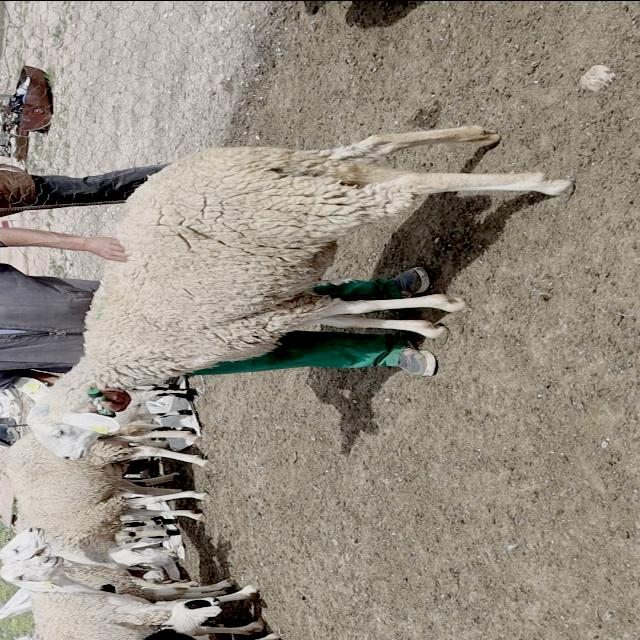Score_2: (20, 125, 571, 459)
